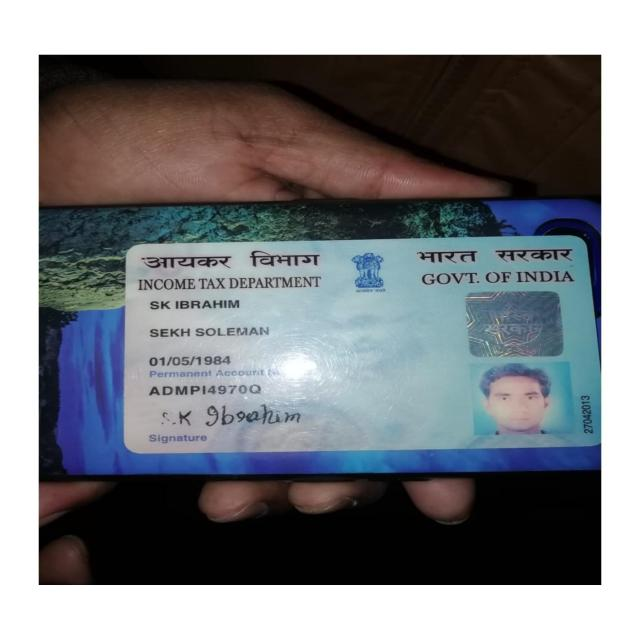pan_card: (130, 239, 603, 453)
